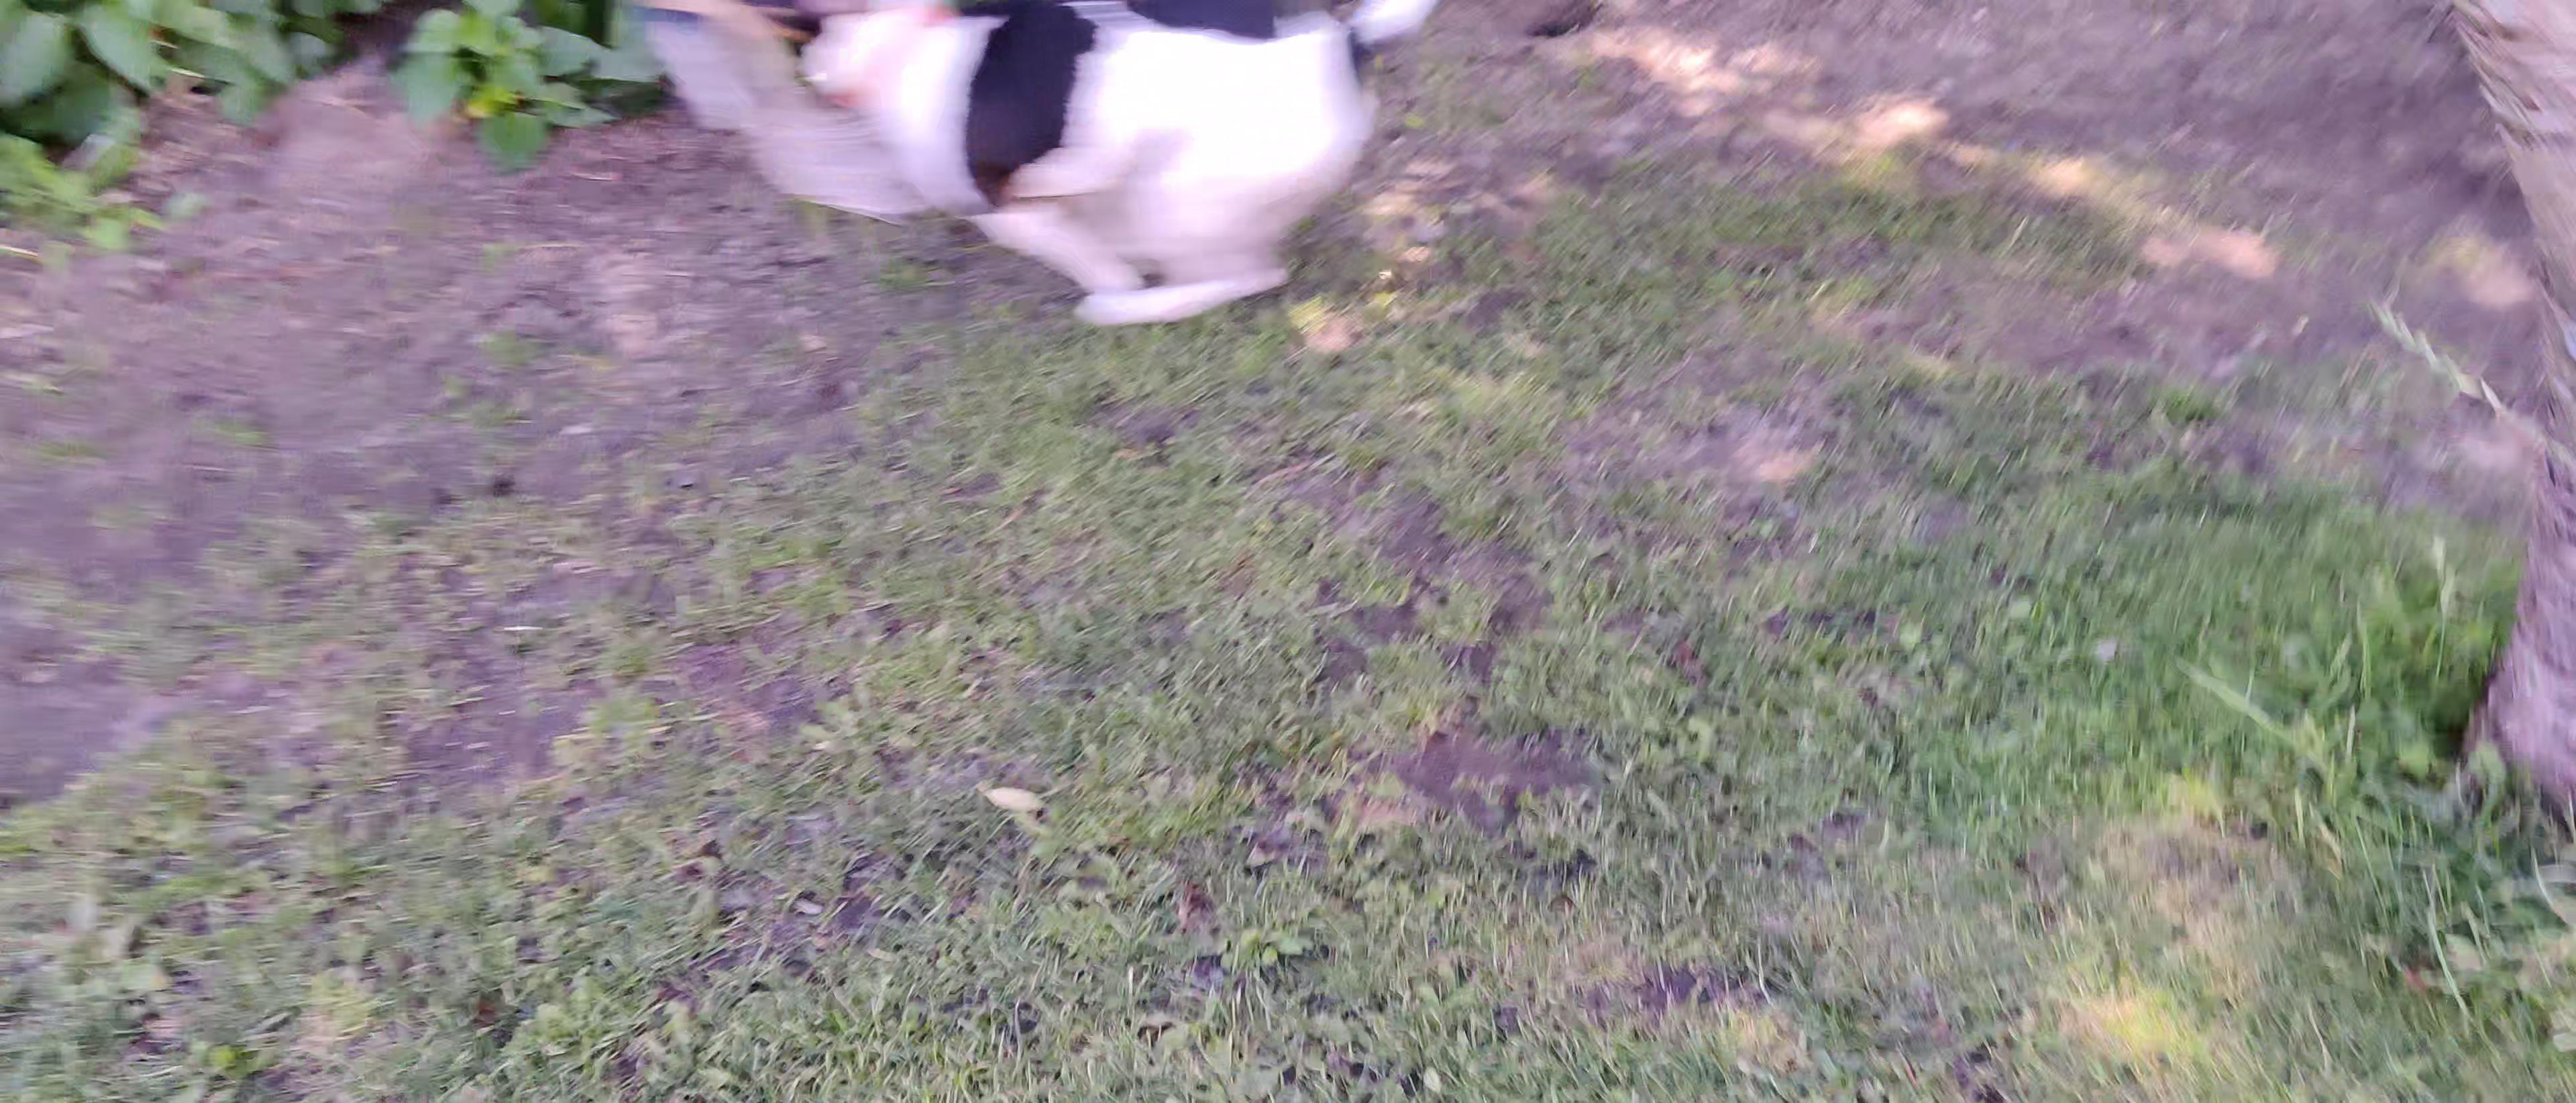Dog: (618, 0, 1451, 337)
